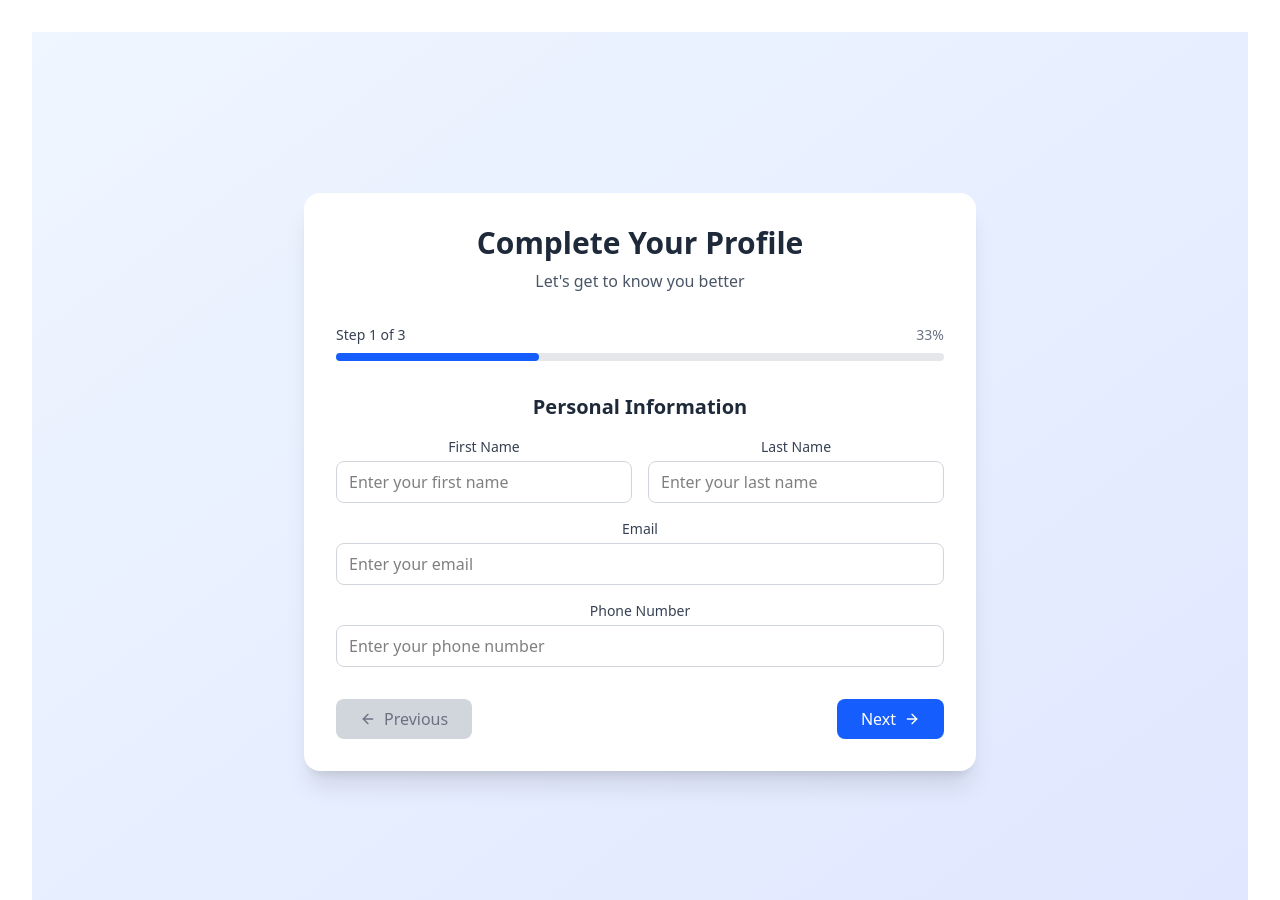
Test: Onboarding Component › shows validation errors when clicking Next with empty fields
// Click the Next button
Click the button "Next" at (890,719), box 837,699 -> 944,739
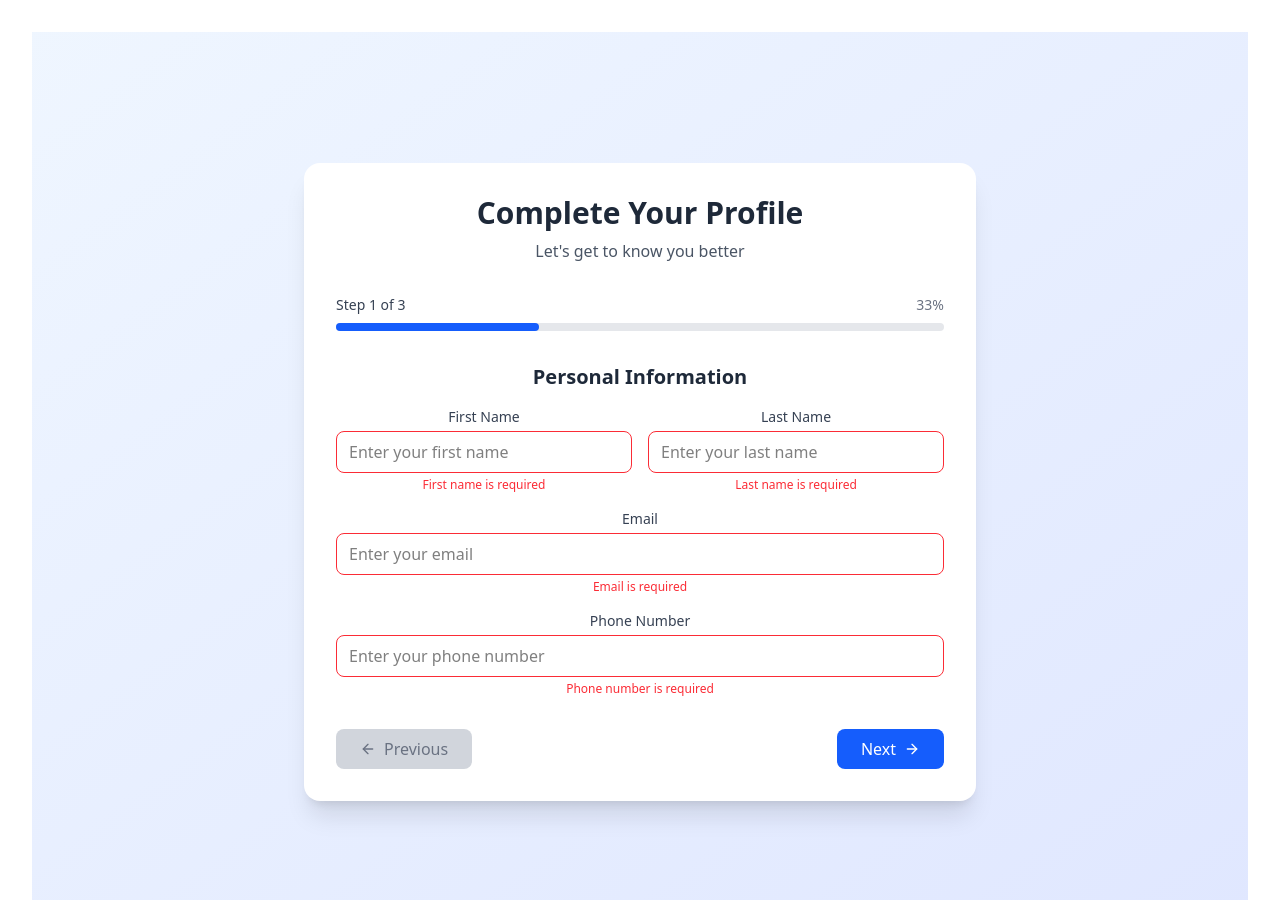
Expected: the text "First name is required" is shown, 422,476 -> 546,493
Expected: the text "Last name is required" is shown, 735,476 -> 857,493
Expected: the text "Email is required" is shown, 593,578 -> 687,595
